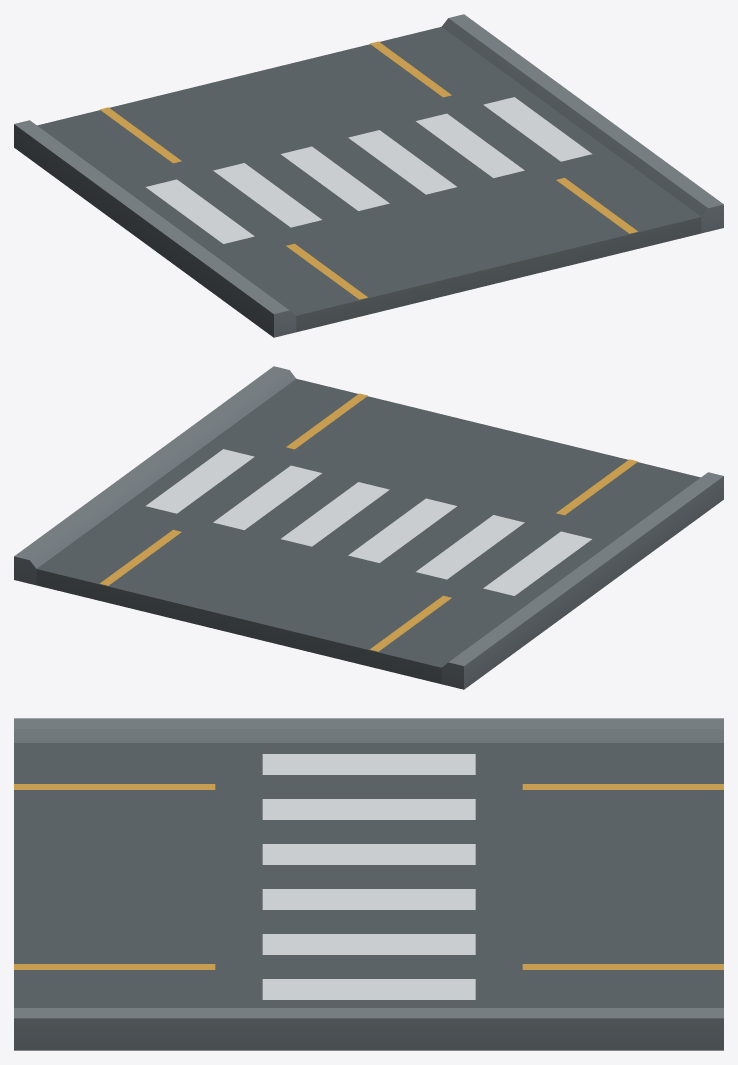
Rendered from crossing.glb.
3 views of the same model, one above another, from view 1: azimuth 30°, elevation 25°; view 2: azimuth 150°, elevation 25°; view 3: azimuth 270°, elevation 25° (orthographic). The views are drawn at different scales.
Parts seen in each view (by area): view 1: road_straight_crossing; view 2: road_straight_crossing; view 3: road_straight_crossing.
Boxes of the visible parts, box(x1,y1,x2,y2) form: road_straight_crossing: box(14, 14, 723, 337); road_straight_crossing: box(14, 366, 723, 689); road_straight_crossing: box(14, 718, 723, 1050).
Size of the model in its own units: 2 by 0.1 by 2.
Materials: 1 (1 with a texture image).
